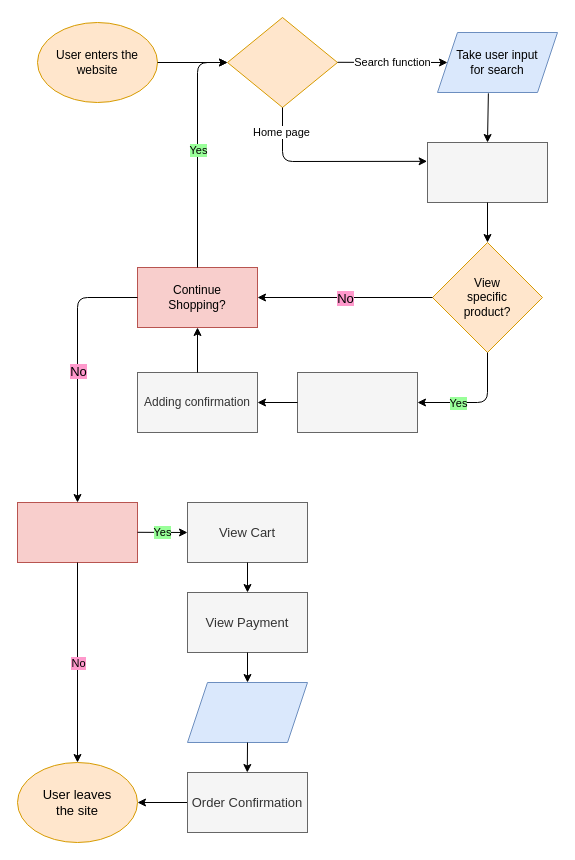
Image size: 575x860. Some labels were removed from this diagram. The shapes that lost their labels are listed below. From the top down, each one's centre as x and y in pixels, then its label:
At [282,62]: "User searches using".
At [487,172]: "User receives and looks at products".
At [357,402]: "Add item to cart".
At [77,532]: "Checkout?".
At [247,712]: "Take user payment info".
